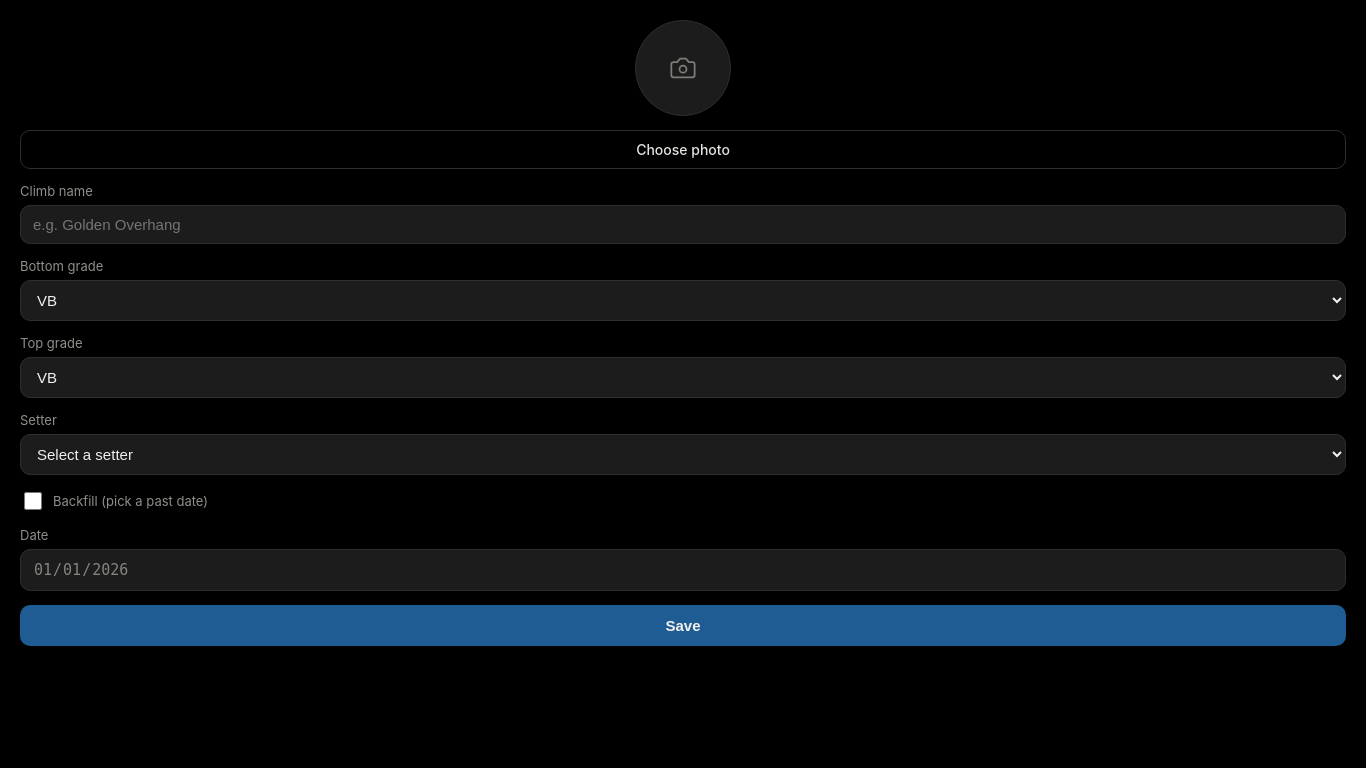
NewClimbForm › rejects a blank name/setter
Click the button "Save" at (683,626), box top-left (20, 605), bottom-right (1346, 646)
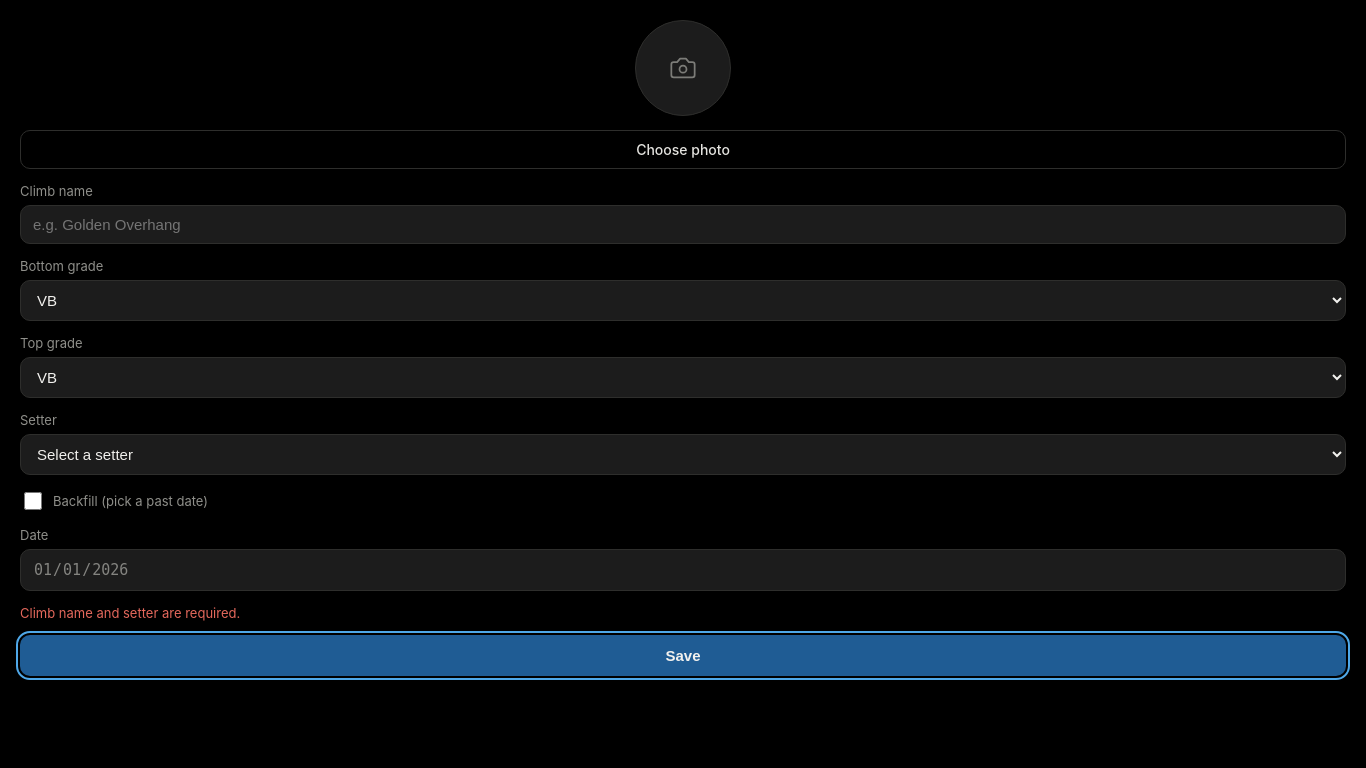
Expected: the message reads "Climb name and setter are required.", top-left (20, 605), bottom-right (240, 621)
